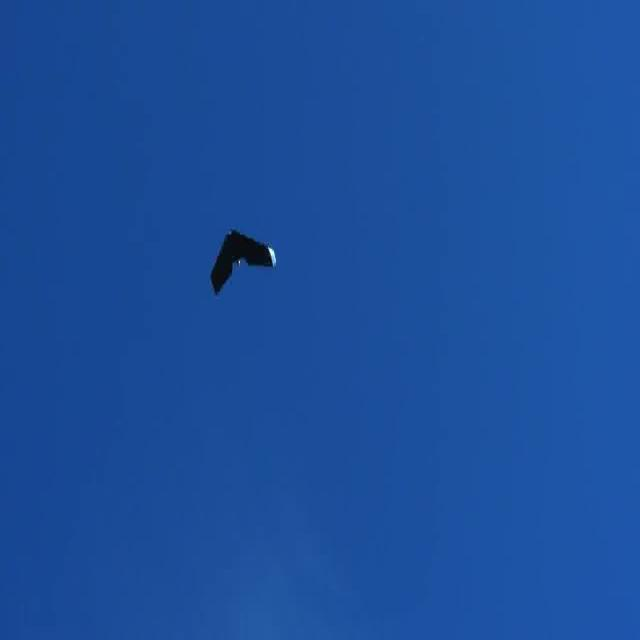iha: (240, 243, 244, 269)
